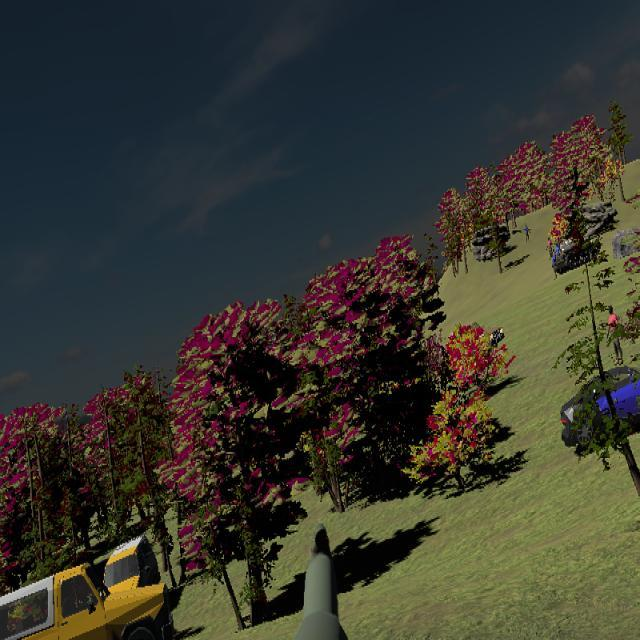Human: (606, 305, 623, 366)
car: (1, 566, 177, 640), (560, 364, 640, 447), (101, 535, 164, 612)
